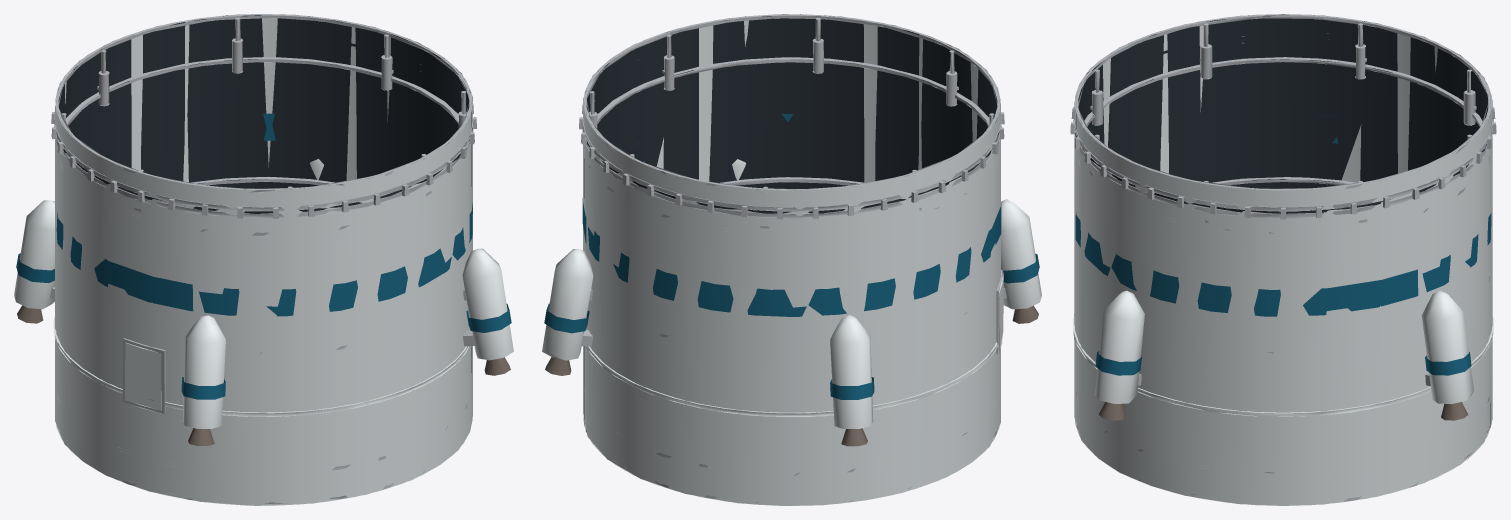
Rendered from interstage_pyro_d84.glb.
3 renders of one model, left to right at view 1: azimuth 30°, elevation 25°; view 2: azimuth 150°, elevation 25°; view 3: azimuth 270°, elevation 25°, orthographic.
Visible parts, largest first — view 1: interstage_pyro_d84_mesh; view 2: interstage_pyro_d84_mesh; view 3: interstage_pyro_d84_mesh.
Part boxes in pixels (<box>): interstage_pyro_d84_mesh: <box>14,14,513,505</box>; interstage_pyro_d84_mesh: <box>542,14,1041,505</box>; interstage_pyro_d84_mesh: <box>1070,14,1496,505</box>.
Bounding box in the file's own units: 8.56 × 7 × 8.57.
